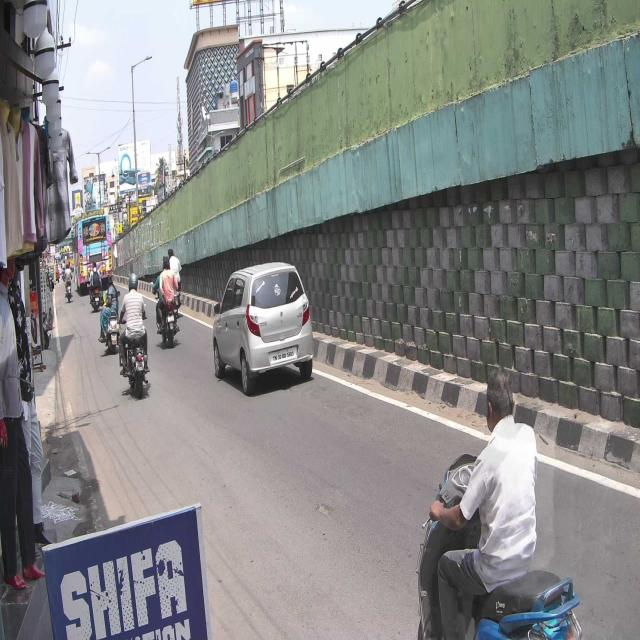single_rider: (415, 366, 580, 640)
